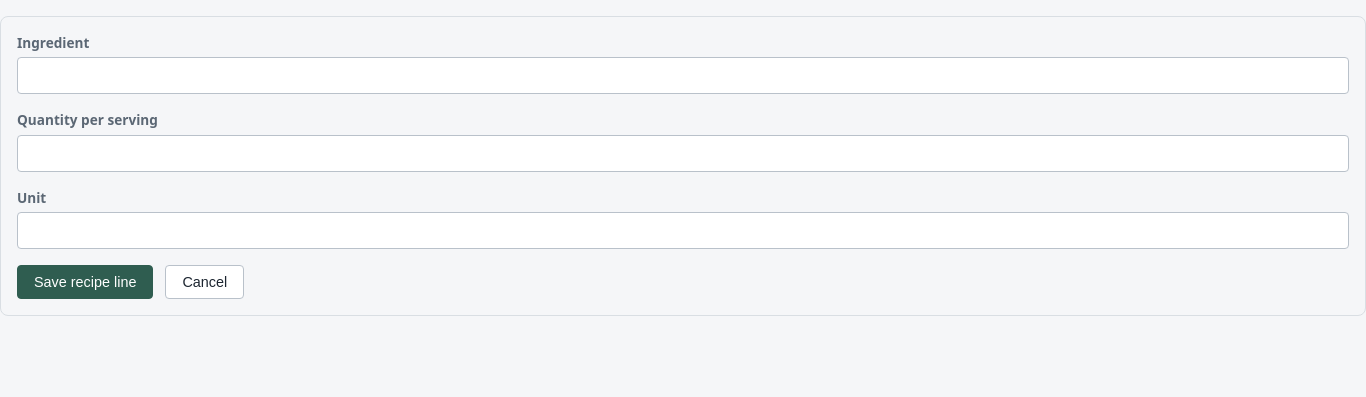
Test: RecipeLineForm › blocks submit with an inline error when ingredient is empty
In the number field labelled "Quantity per serving": (683, 153) [17,135,1349,172], type "0.2"
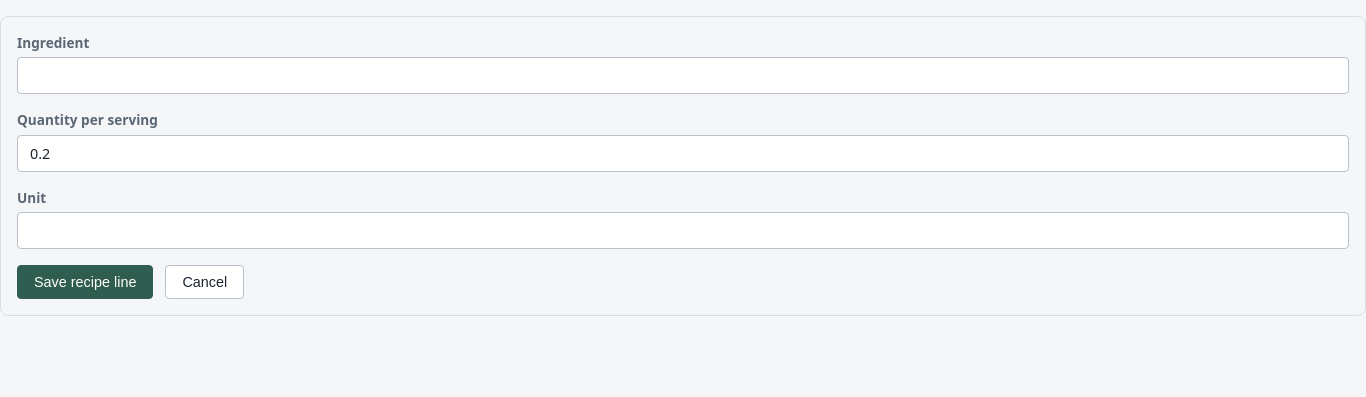
In the field labelled "Unit": (683, 231) [17,212,1349,249], type "kg"
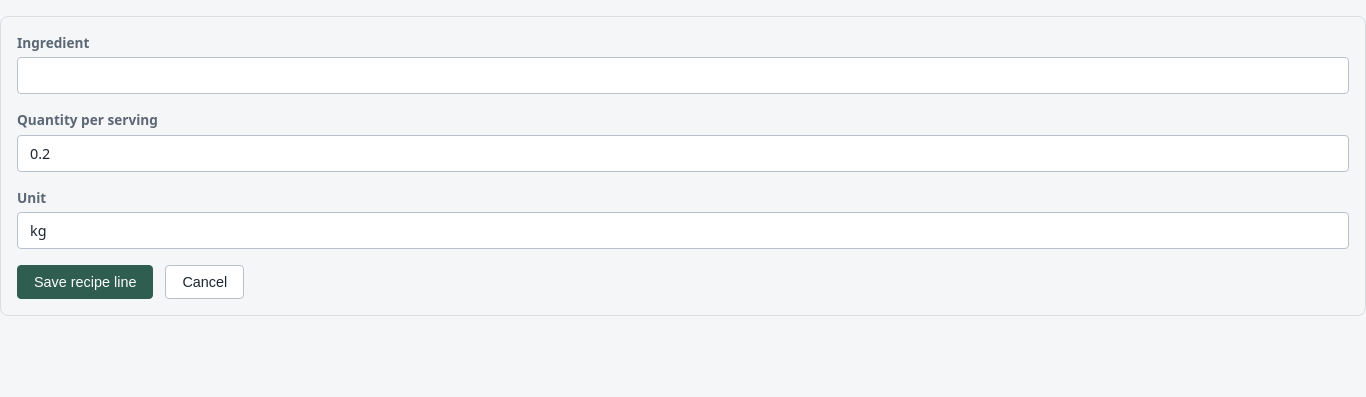
Click the button "Save recipe line": click(85, 282) [17,265,153,299]
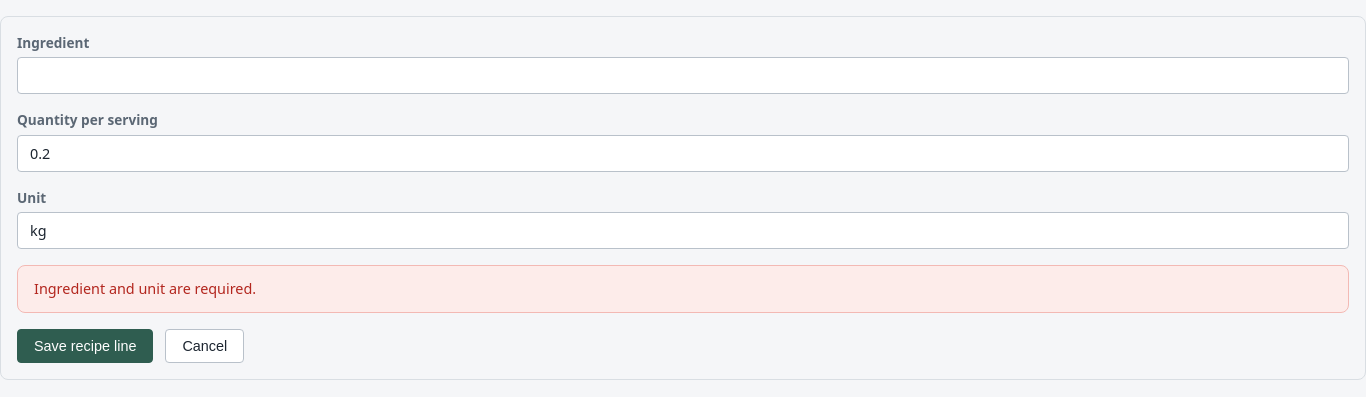
expect the message shows "Ingredient and unit are required": met, box [34,279,256,298]
